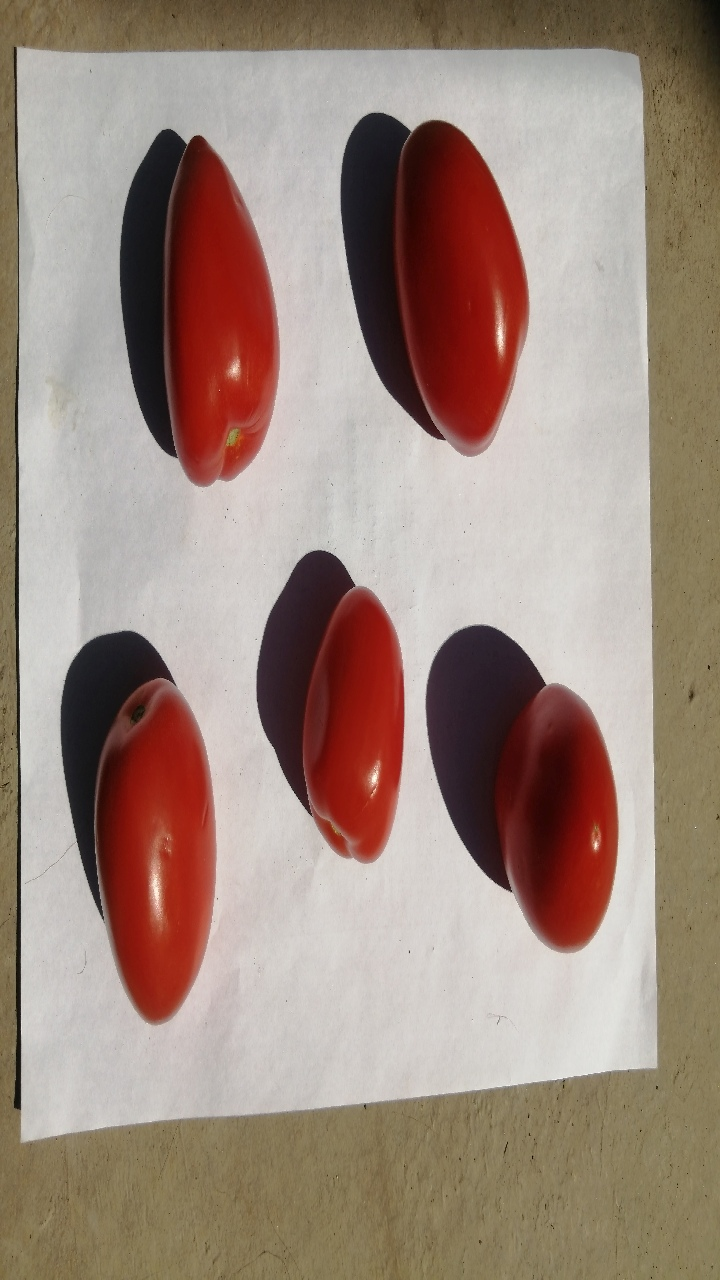tomateRojo: (126, 115, 320, 514), (358, 103, 563, 480), (63, 643, 248, 1035), (264, 548, 431, 897), (469, 629, 635, 966)
